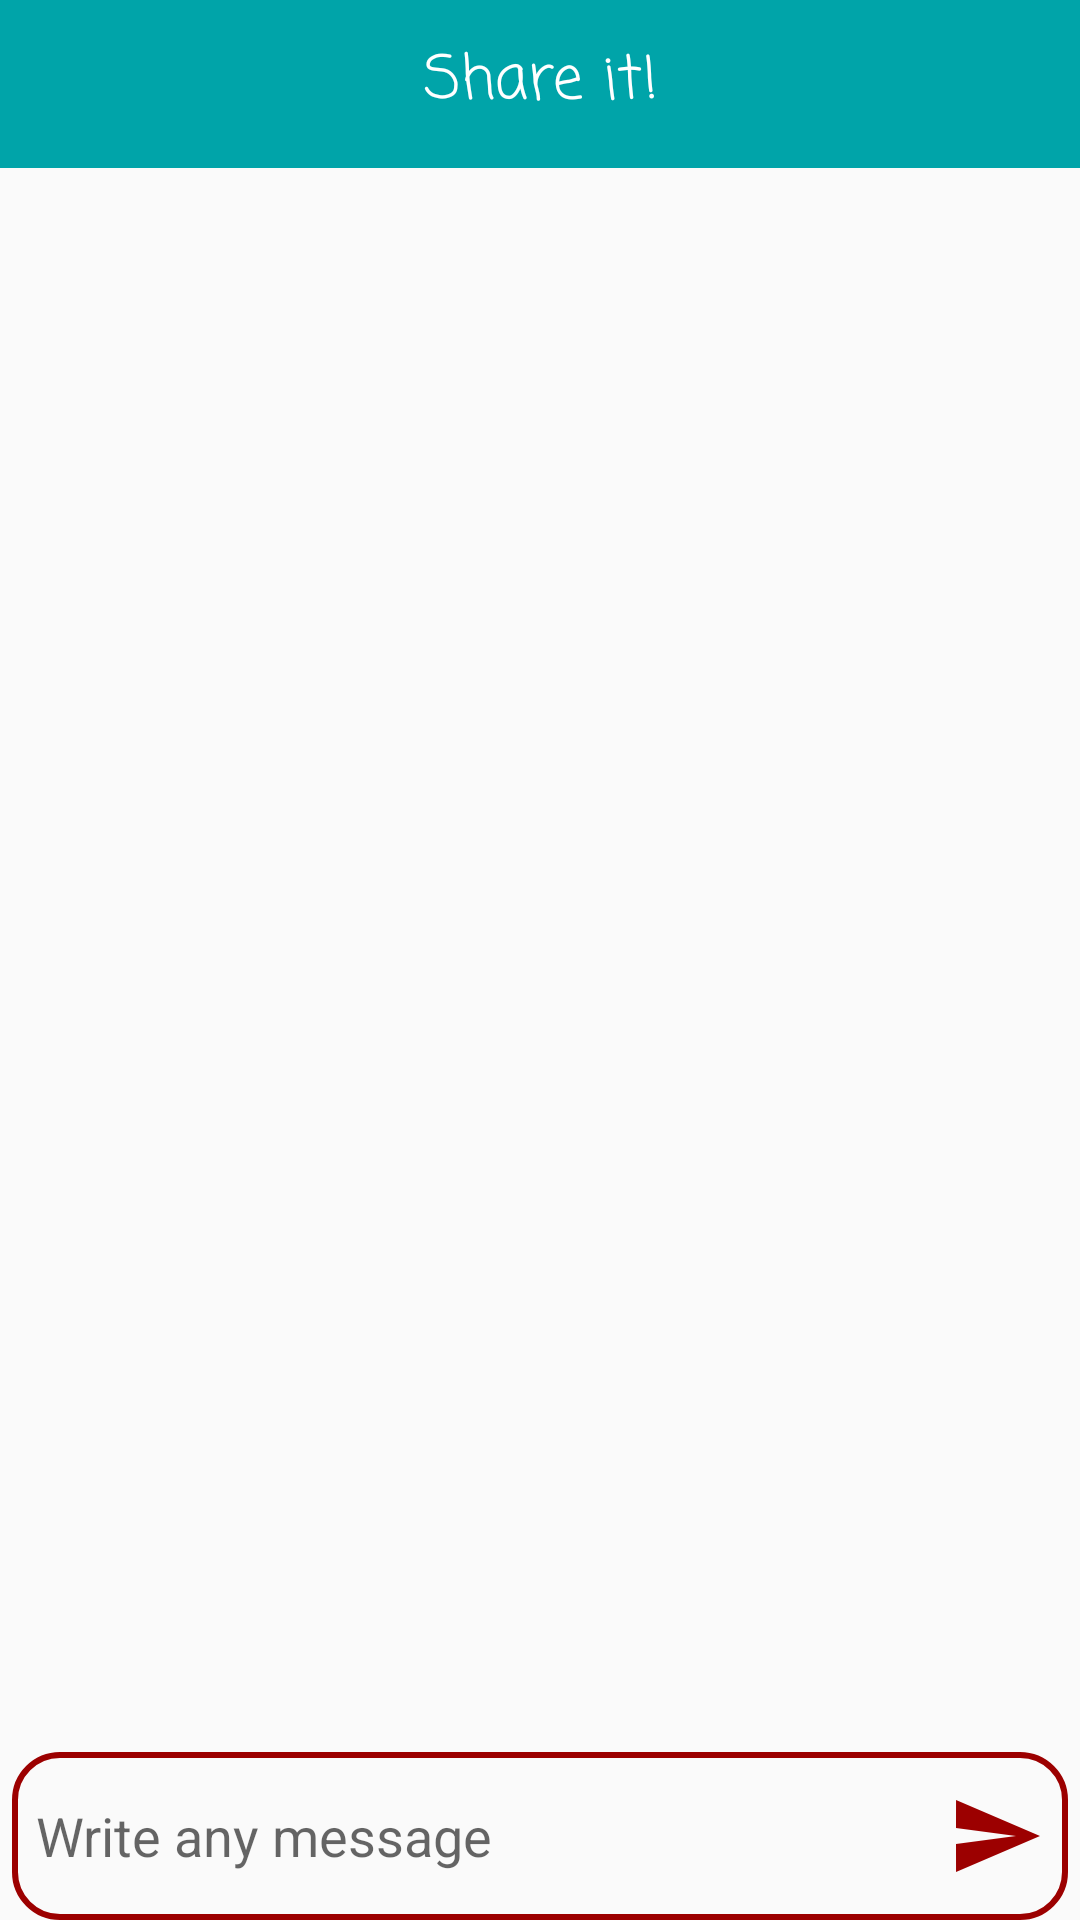

Named icons in this screenshot (1080w x 1920h) and their bounding boxes, box(x1, y1, x2, y2):
send: box(956, 1800, 1040, 1872)
